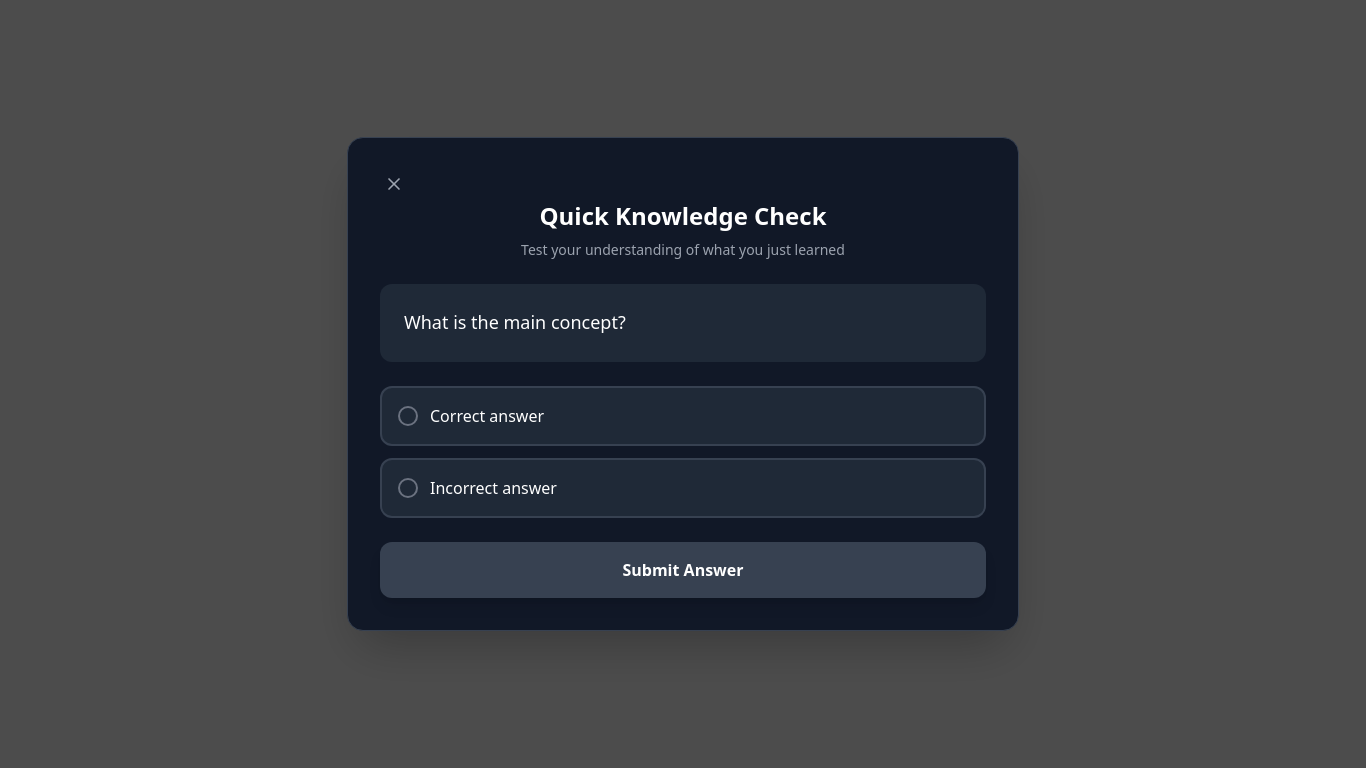
Test case: MCQModal › should show loading state while submitting
# Select and submit
Click the button "Correct answer".
click(487, 416)  # box [380,386,986,446]
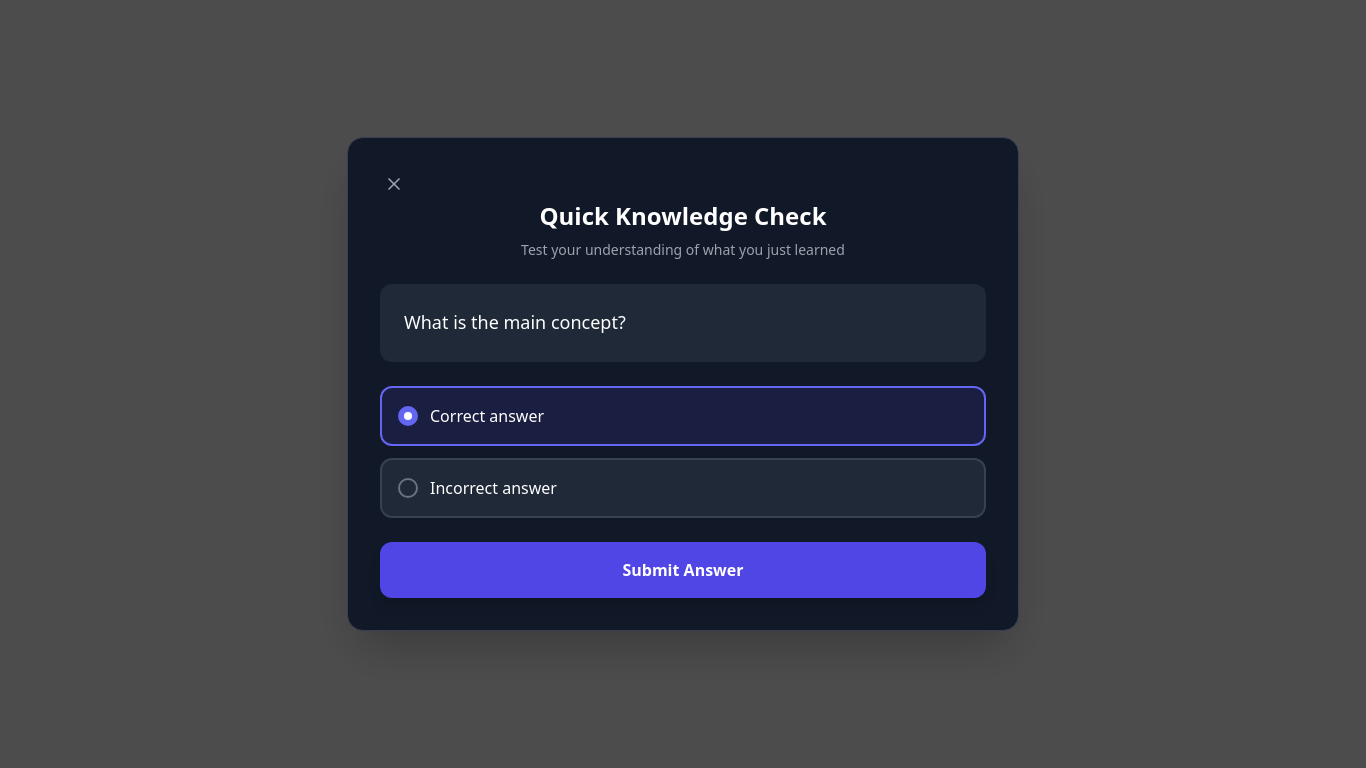
Click the button "Submit Answer".
click(683, 570)  # box [380,542,986,598]
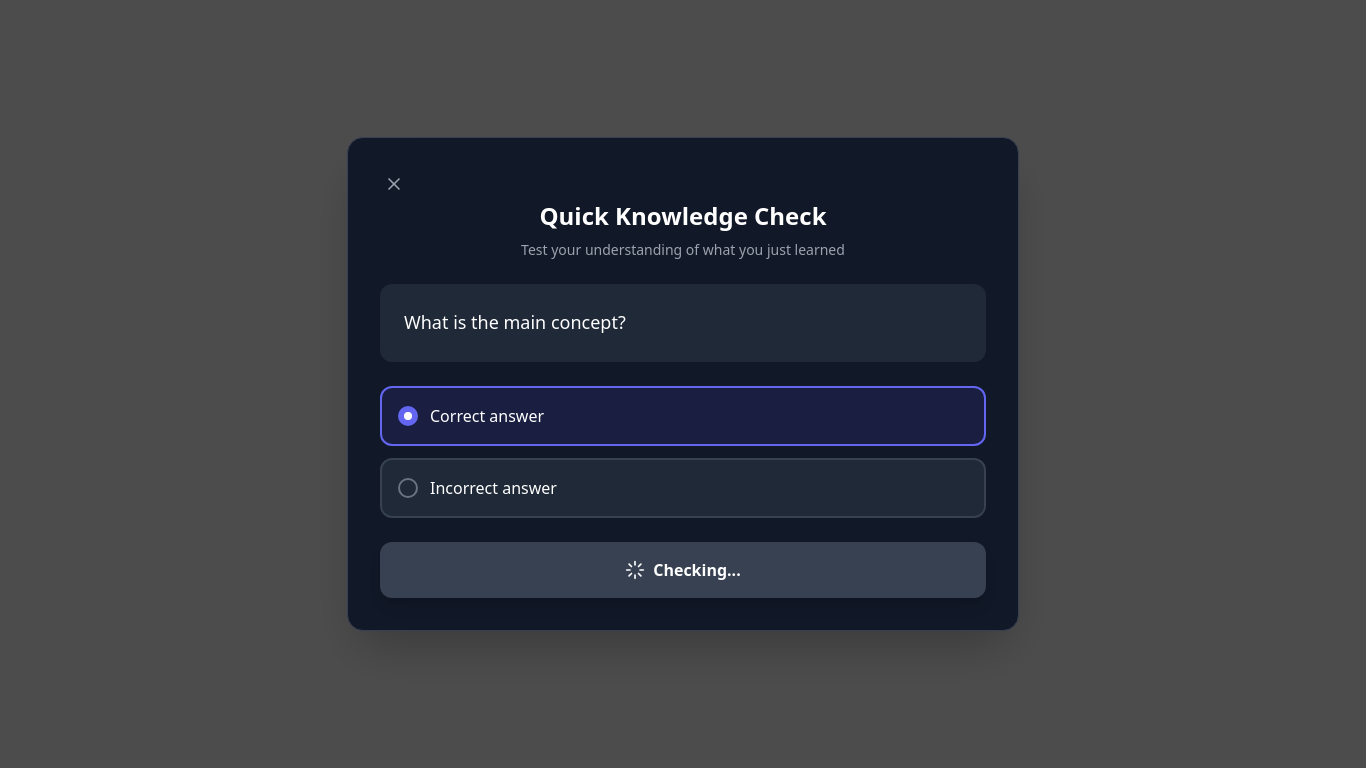
Now the text "Checking..." is shown, box [625,559,741,581]
